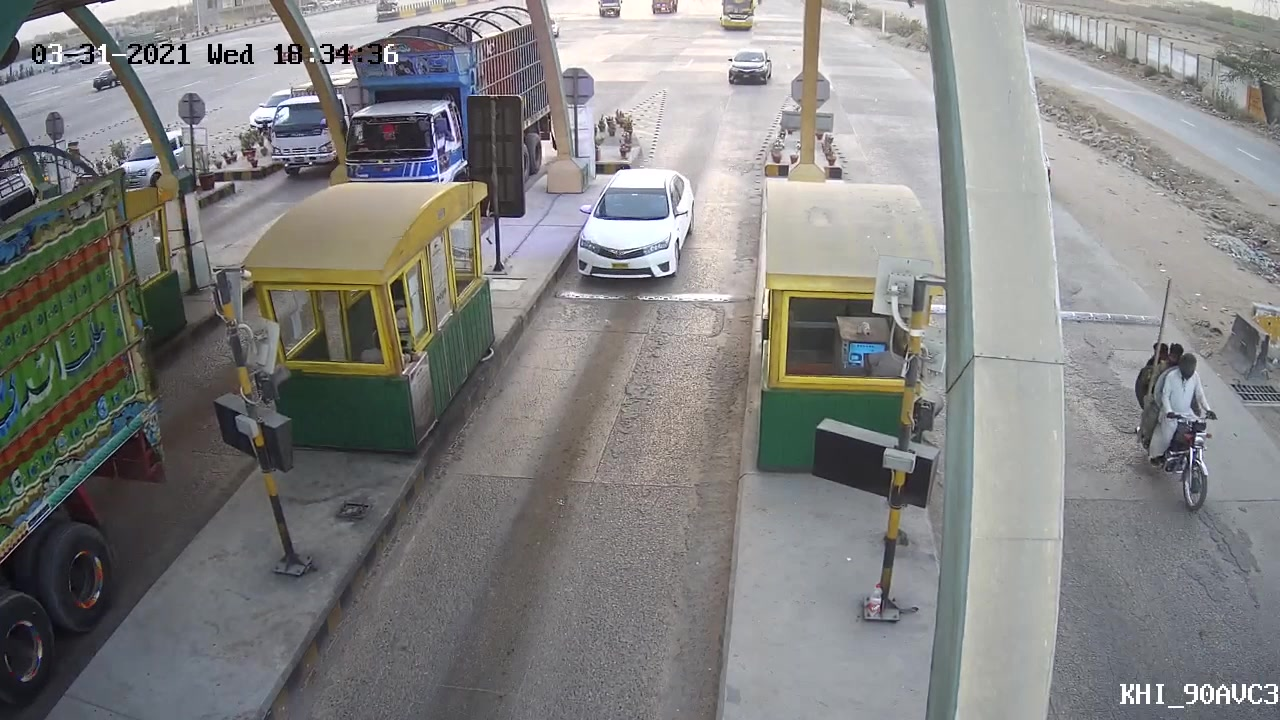F1: (566, 163, 702, 290)
